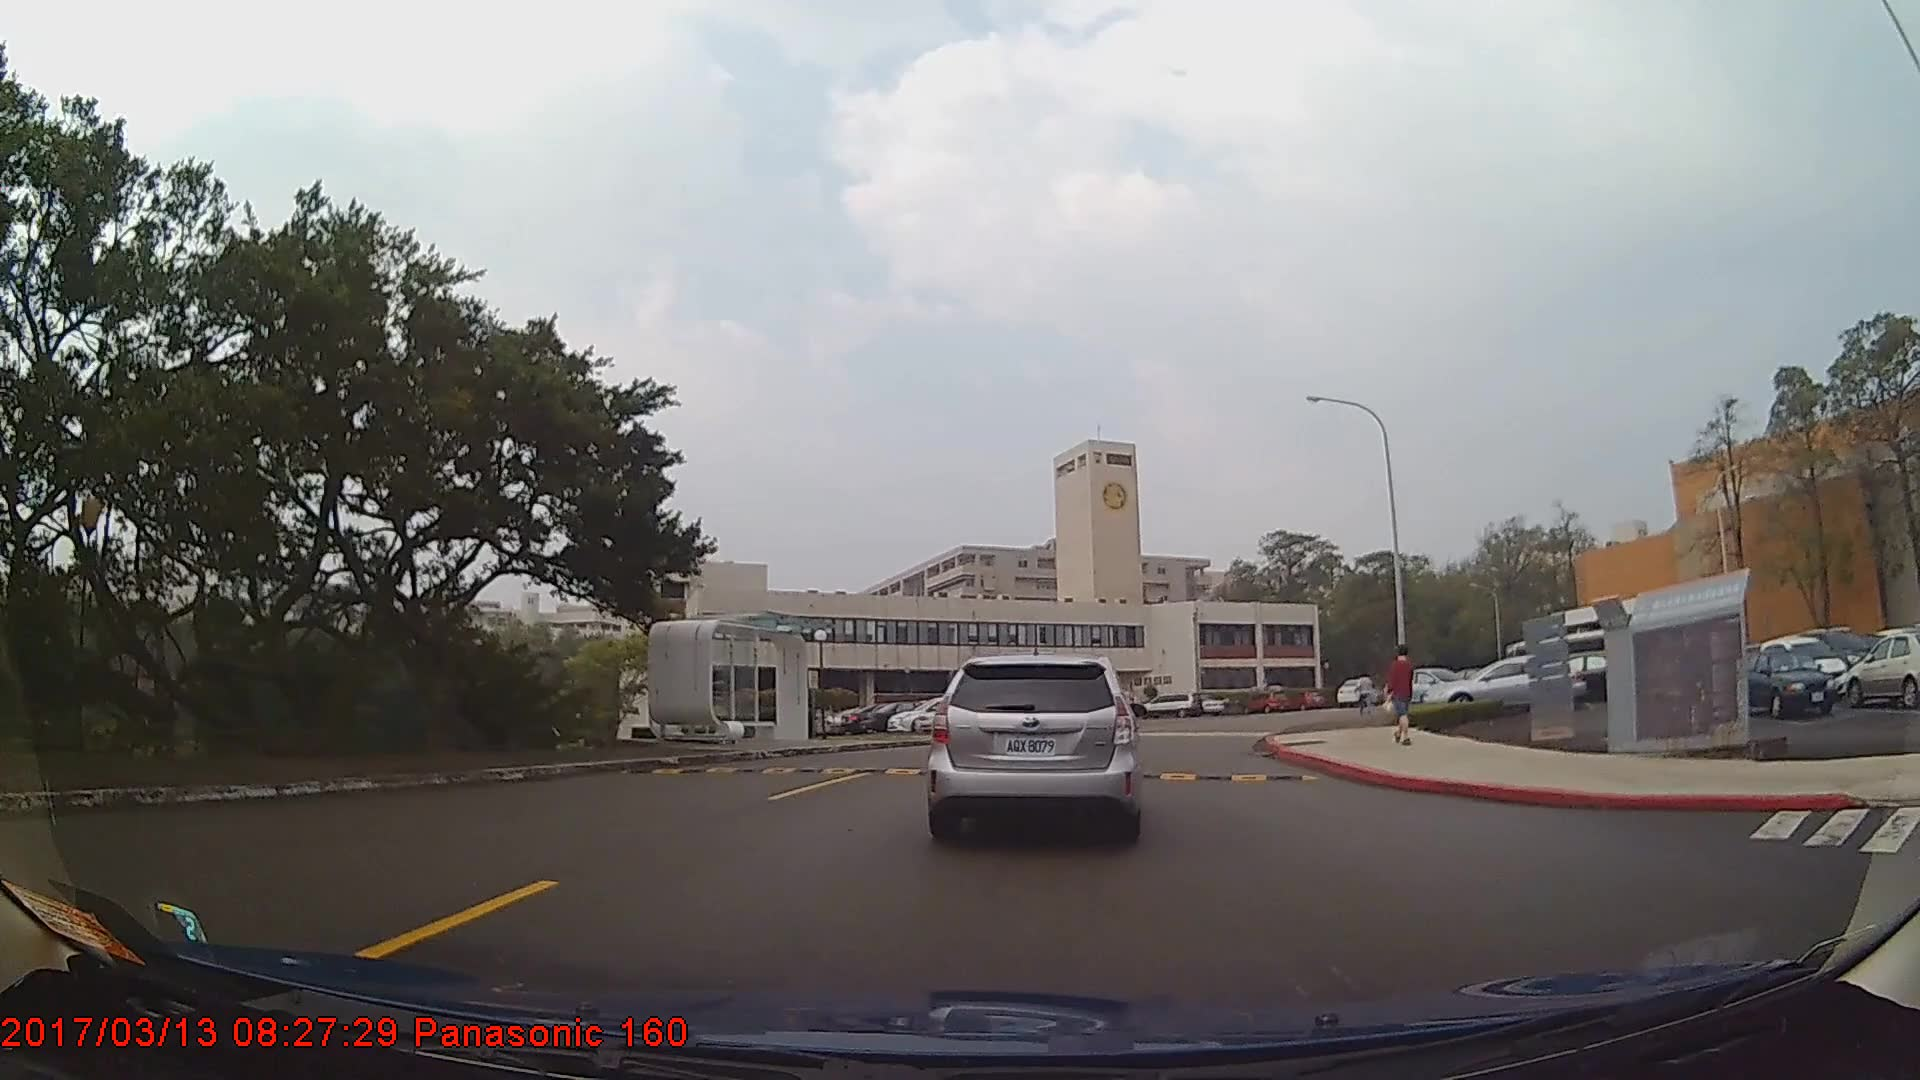pedestrian: (1387, 648, 1419, 751), (1354, 670, 1379, 716)
vehicle: (930, 650, 1136, 840), (1421, 654, 1588, 714), (1734, 644, 1837, 716), (1842, 628, 1920, 709), (1140, 691, 1204, 718), (1336, 675, 1375, 707)
